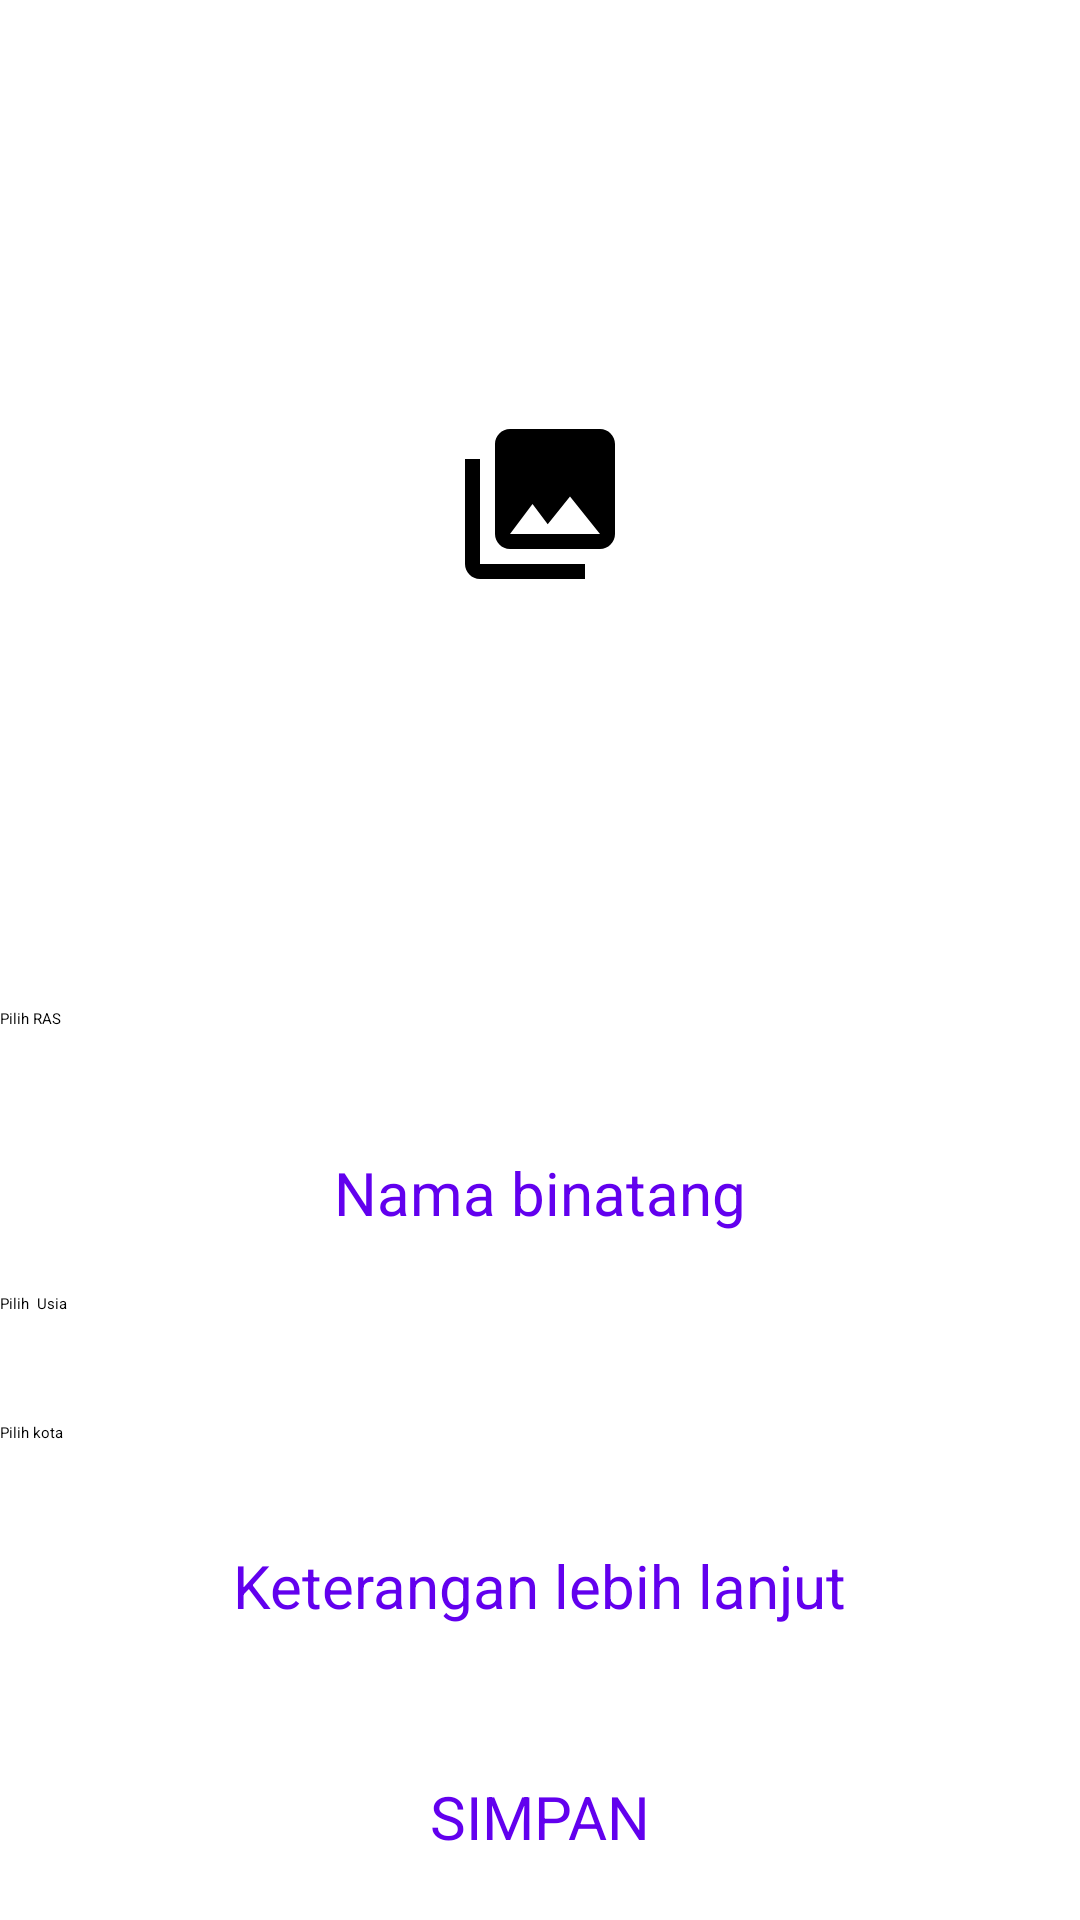

Screen size 1080px x 1920px. Icon name, then its center in pixels as point (x, y):
gallery: point (540, 504)
